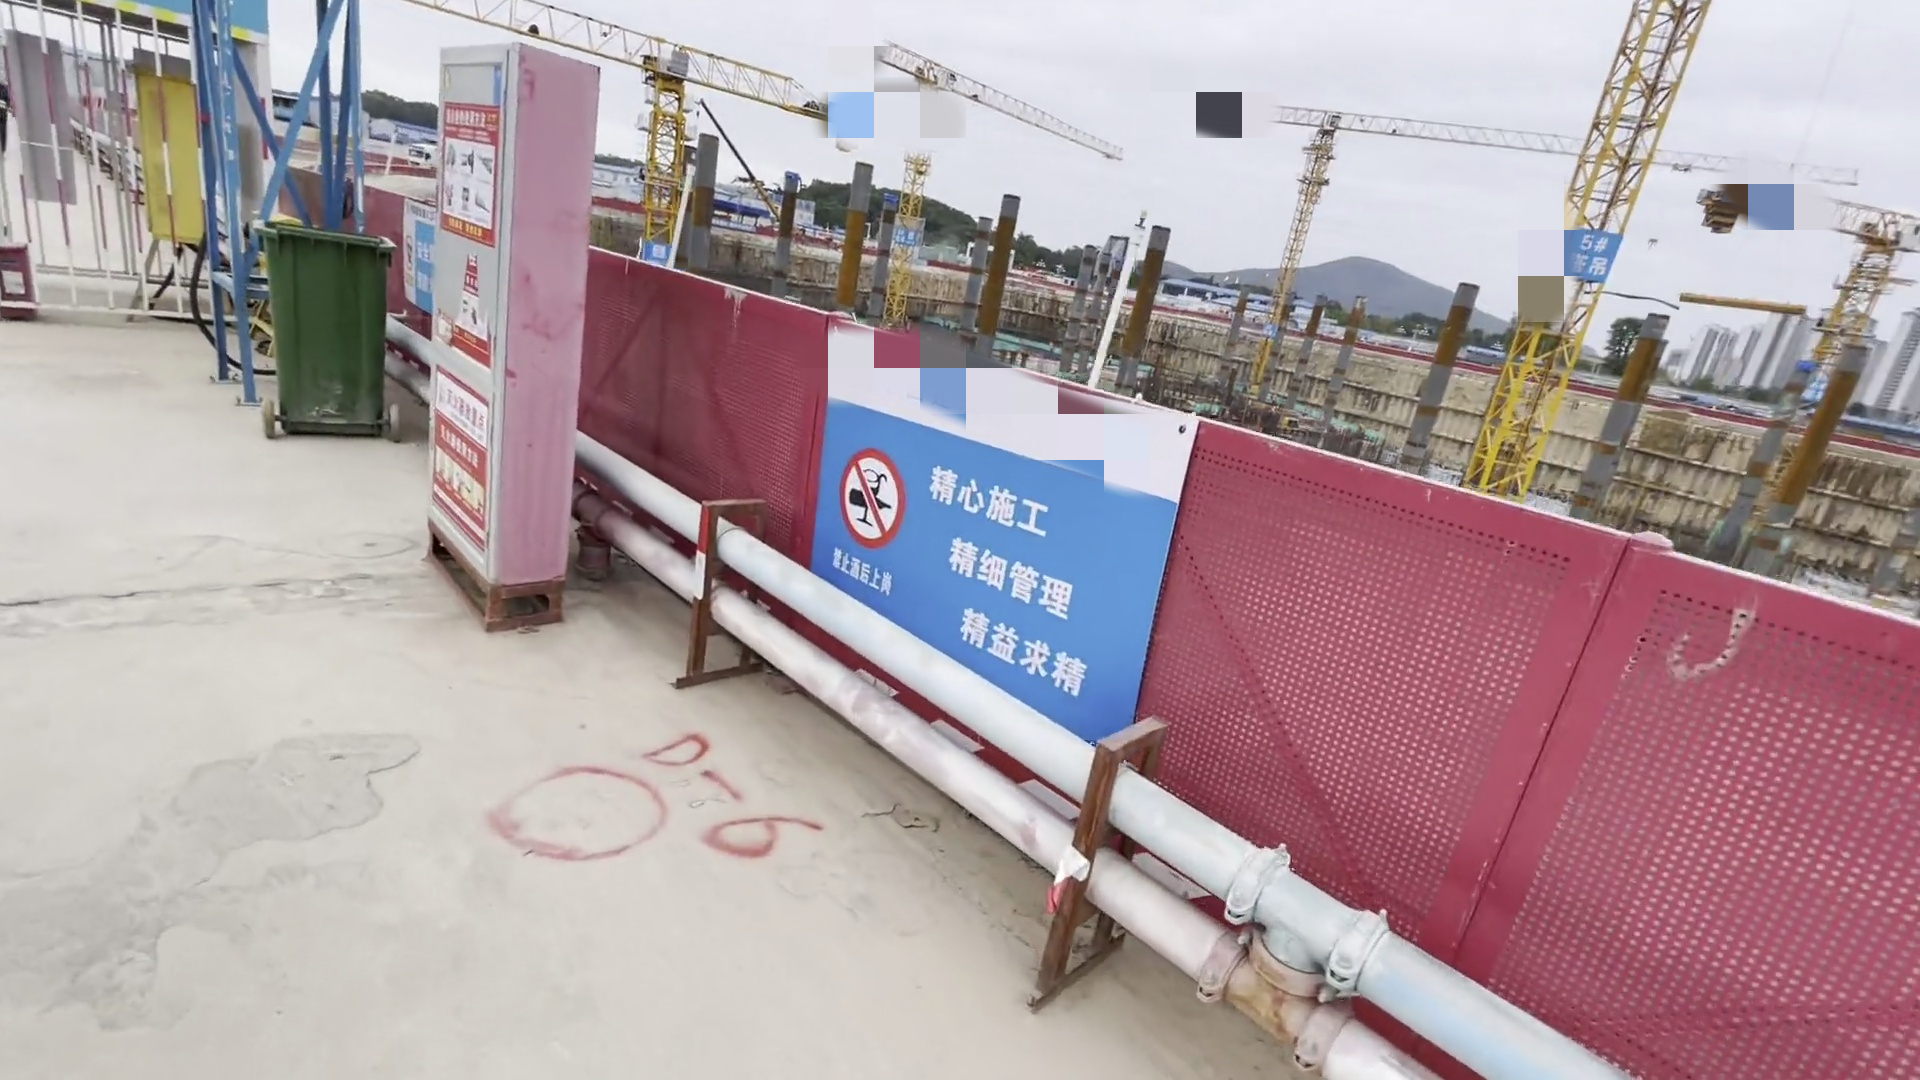ebox: (123, 59, 224, 286)
fence: (582, 220, 1834, 1034)
slogan: (811, 338, 1141, 717)
